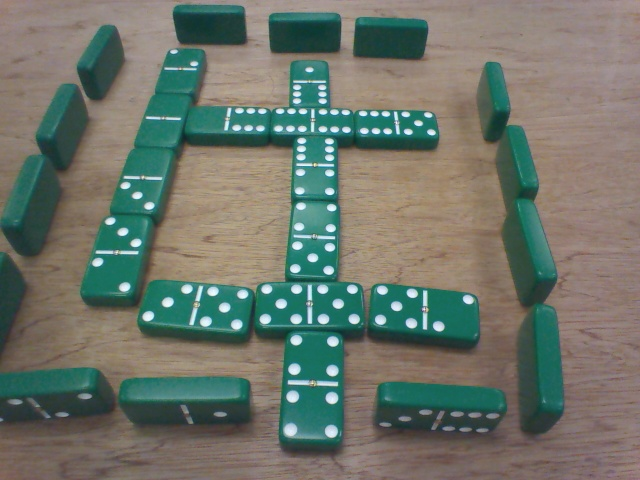B: (273, 335, 351, 449), (365, 281, 483, 346), (145, 273, 253, 344), (253, 278, 368, 337), (86, 211, 147, 304), (281, 201, 344, 277), (109, 149, 174, 219), (267, 96, 356, 145), (282, 136, 345, 200), (352, 105, 444, 147), (128, 95, 195, 152), (184, 105, 270, 144), (277, 59, 334, 110), (151, 48, 207, 98)
C: (3, 153, 64, 253), (30, 83, 97, 168), (63, 23, 131, 92), (2, 250, 29, 359)
D: (484, 203, 568, 309), (510, 306, 567, 441), (459, 60, 519, 145), (487, 125, 541, 211)
E: (368, 374, 508, 440), (118, 372, 261, 432), (1, 364, 115, 429)
F: (348, 13, 431, 62), (170, 3, 251, 52), (264, 12, 342, 55)
